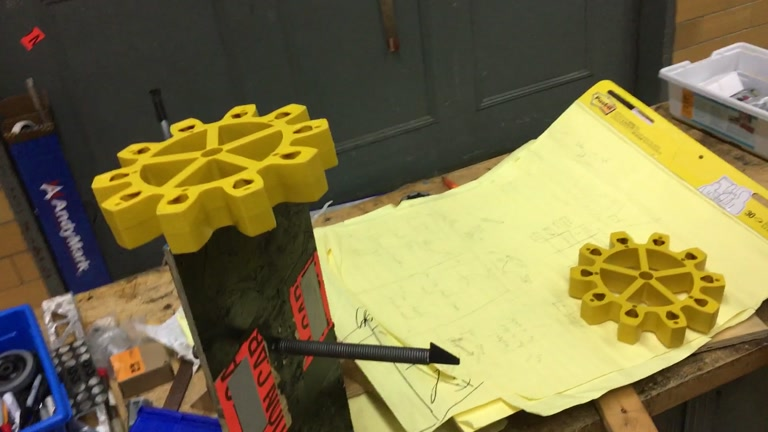gear: (90, 104, 339, 253), (568, 230, 727, 348)
